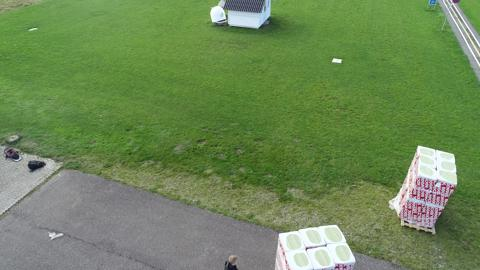RockwoolPallet: (276, 223, 356, 269)
